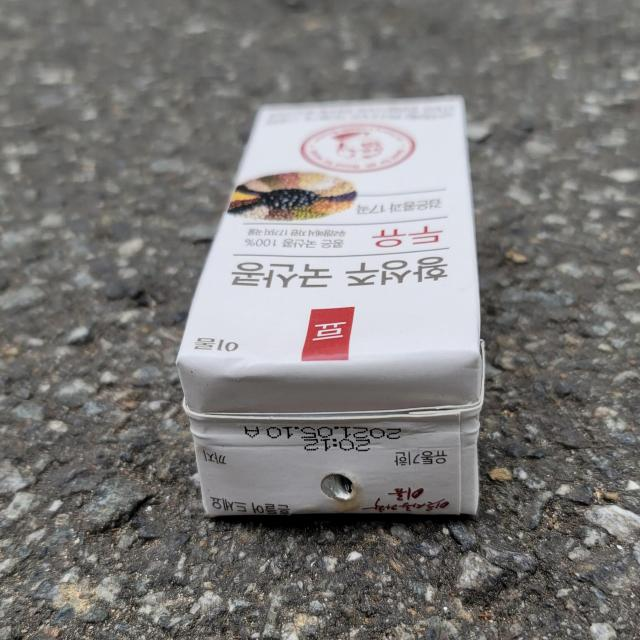paperpack: (176, 96, 485, 518)
